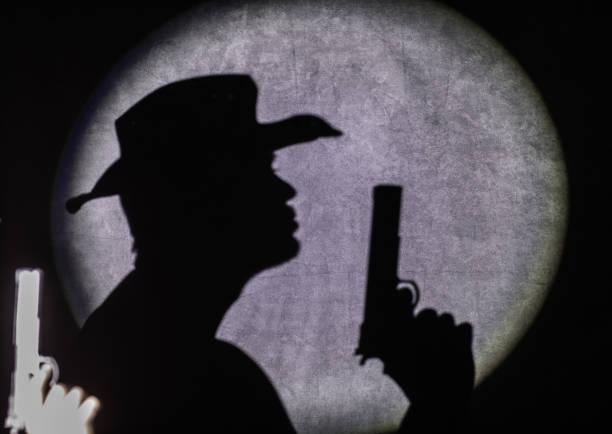weapon: (354, 174, 423, 373), (4, 259, 61, 434)
